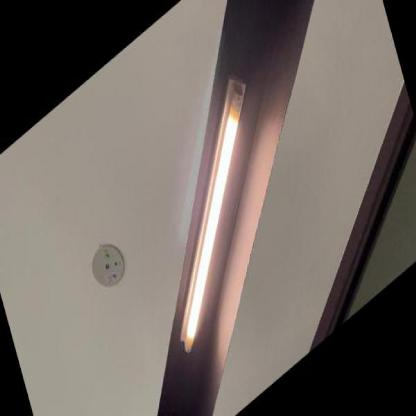light_on: (113, 38, 309, 378)
